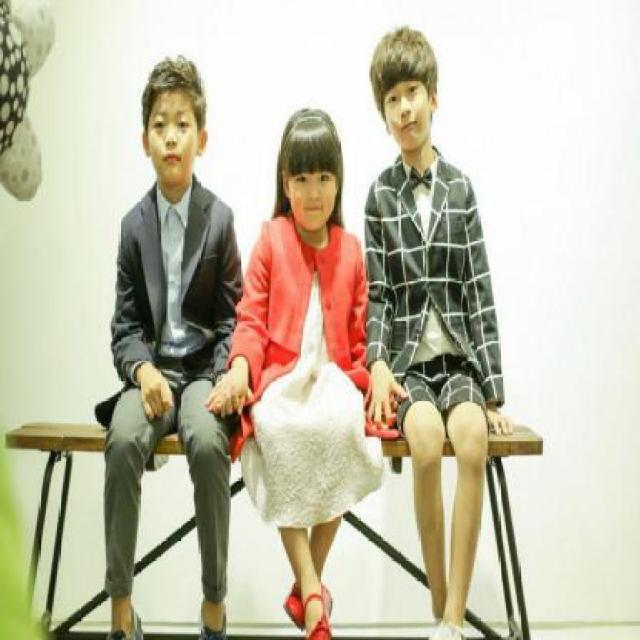Person: (342, 1, 542, 639), (92, 49, 237, 638), (227, 92, 368, 639)
